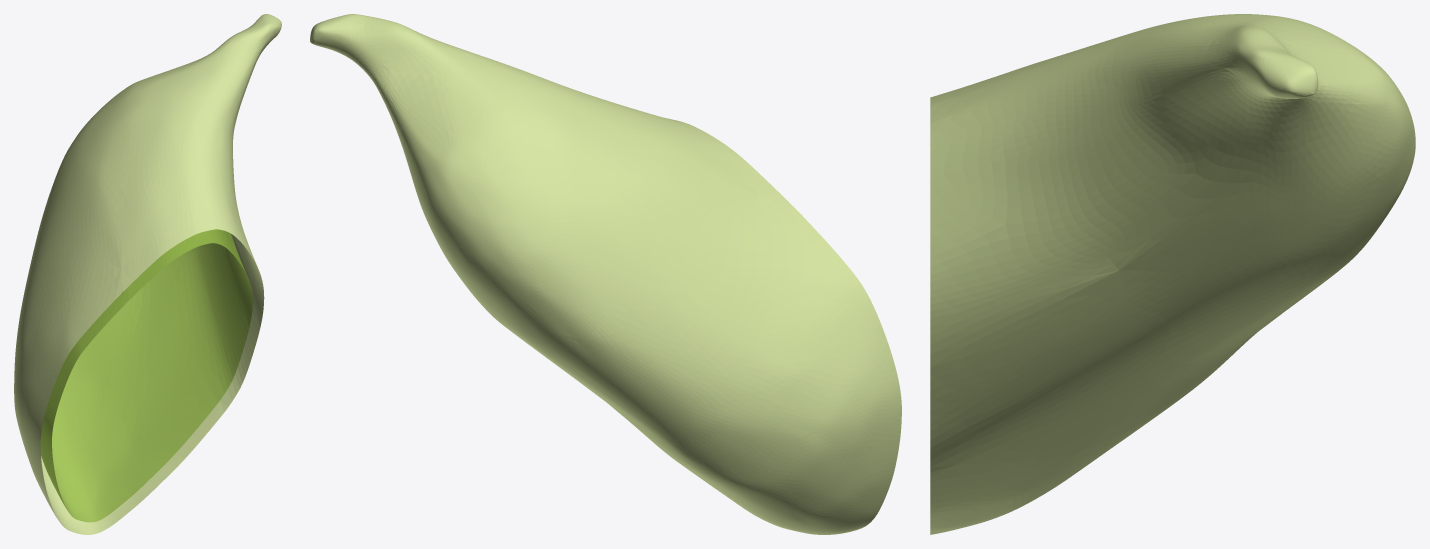
Rendered from colecisti_interno.glb.
3 views of the same model, side by side, from view 1: azimuth 30°, elevation 25°; view 2: azimuth 150°, elevation 25°; view 3: azimuth 270°, elevation 25° (orthographic). The views are drawn at different scales.
Visible parts, largest first — view 1: gallbladder, bile; view 2: gallbladder; view 3: gallbladder.
Boxes of the visible parts, left/top/right/bottom form: gallbladder: left=14, top=14, right=281, bottom=534; bile: left=40, top=229, right=252, bottom=522; gallbladder: left=310, top=14, right=901, bottom=534; gallbladder: left=930, top=14, right=1415, bottom=534.
Bounding box in the file's own units: 36.23 × 39.24 × 24.18.
